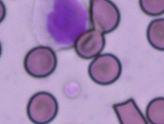M: (42, 0, 90, 49)
